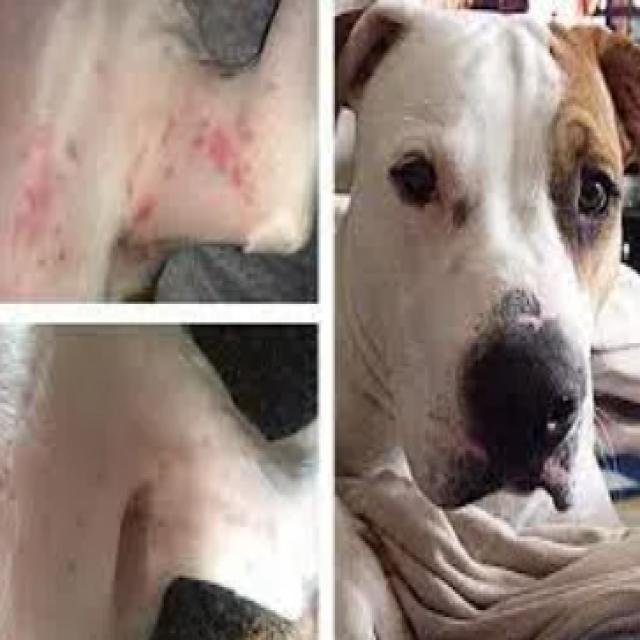allergic dermatitis: (119, 93, 268, 217), (7, 130, 73, 252)
